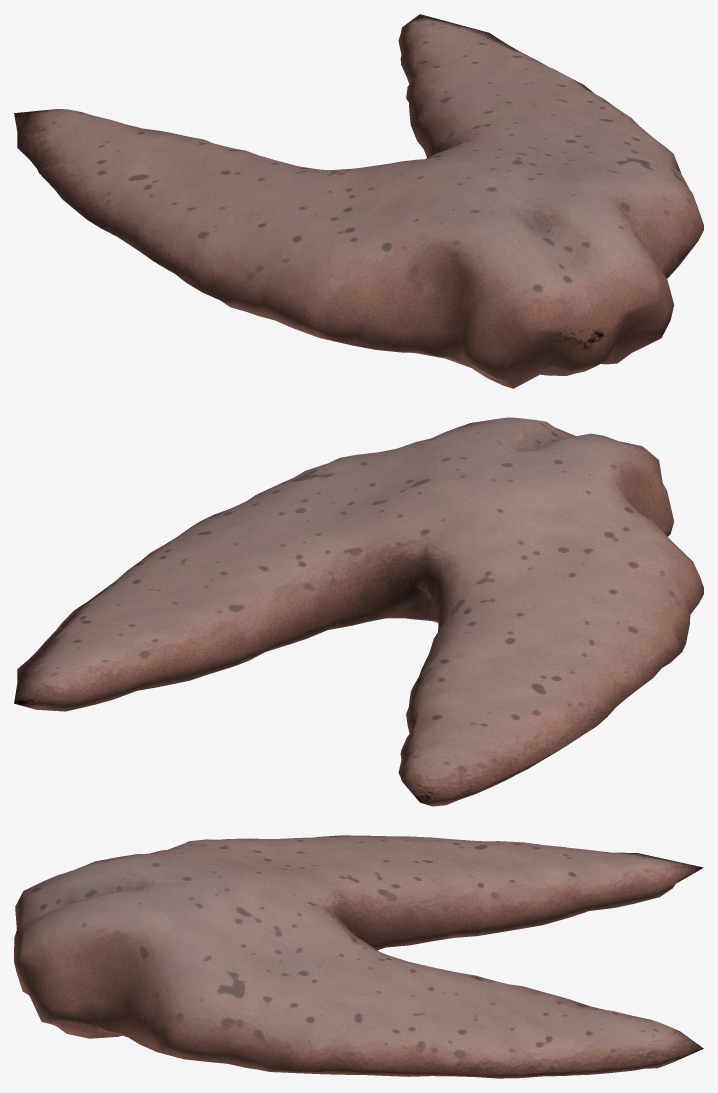
File: Fishtail4.fbx
3 views of the same model, one above another, from view 1: azimuth 30°, elevation 25°; view 2: azimuth 150°, elevation 25°; view 3: azimuth 270°, elevation 25° (orthographic). The views are drawn at different scales.
Visible parts, largest first — view 1: Cube.012; view 2: Cube.012; view 3: Cube.012.
Boxes of the visible parts, box(x1,y1,x2,y2) form: Cube.012: box(14, 14, 703, 388); Cube.012: box(14, 417, 703, 806); Cube.012: box(14, 835, 703, 1078).
Bounding box in the file's own units: 597 × 166 × 765.
Materials: 1 (1 with a texture image).
